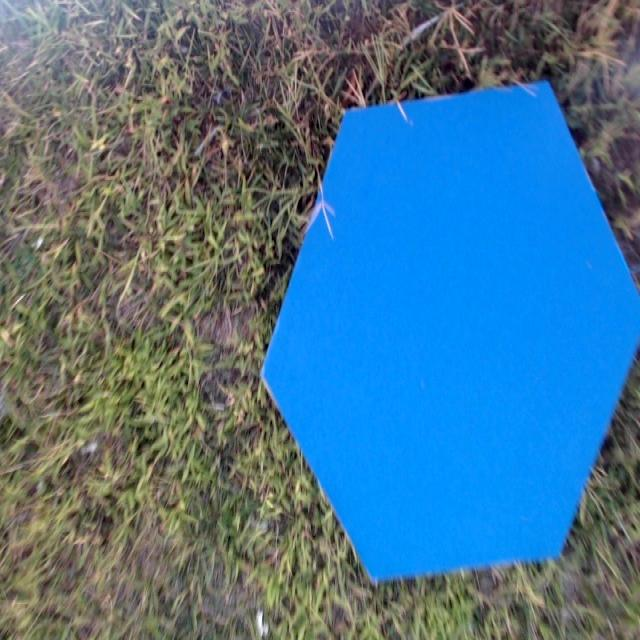blue_hexagon: (260, 79, 640, 585)
